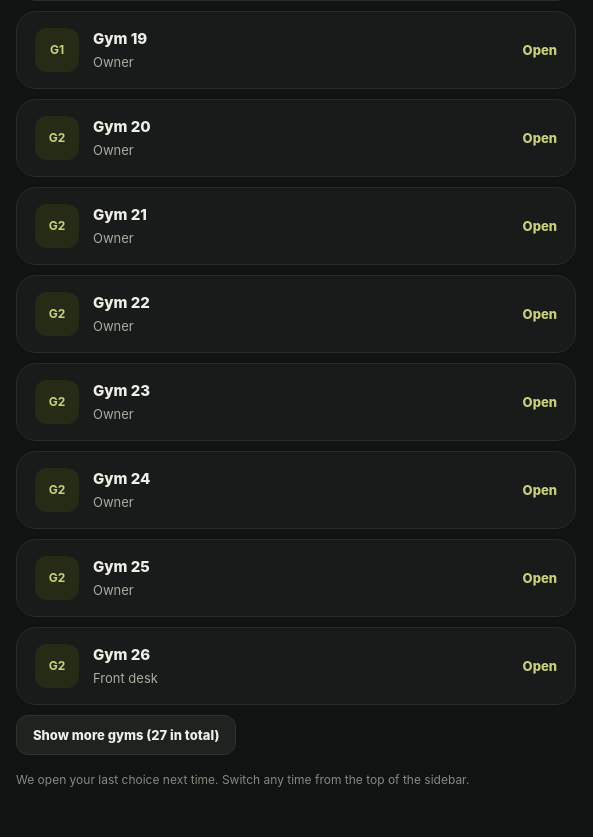
Test case: GymChooser (SF-88) › pages the gyms beyond the entry's 25 with listMyGyms, without an invented cap
(page scrolled)
Check: the button "G2 Gym 26 Front desk Open" is shown, box x1=16 y1=627 x2=576 y2=705
Click the button "Show more gyms (27 in total)": (126, 735) x1=16 y1=715 x2=236 y2=755
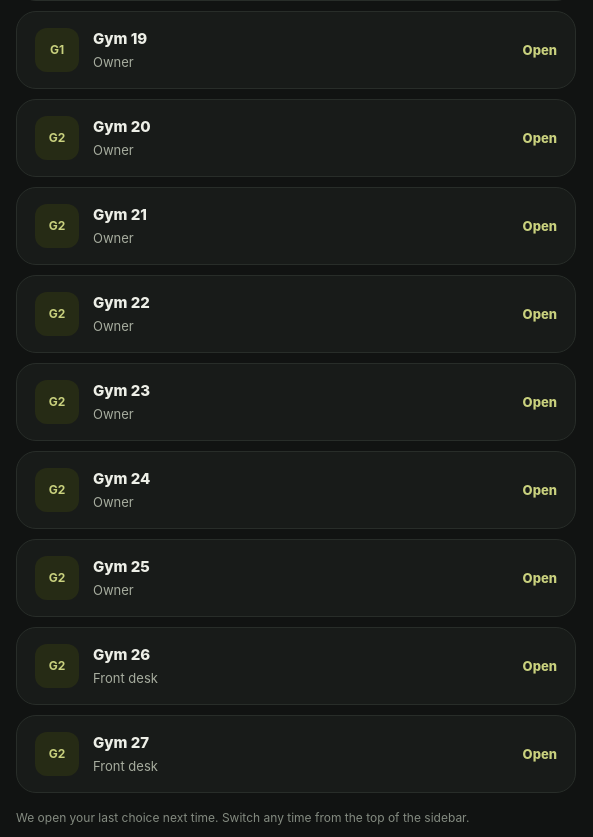
Check: the button "G2 Gym 27 Front desk Open" is shown, box x1=16 y1=715 x2=576 y2=793
Check: the button "Show more" is gone
